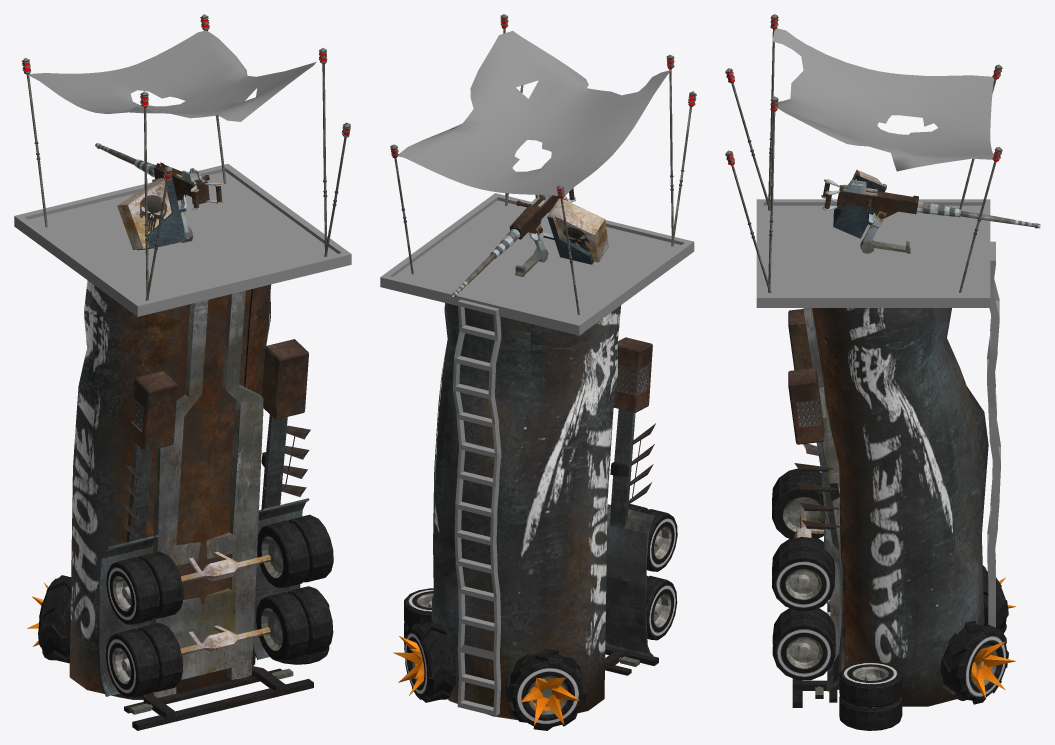
Rendered from full_tower.FBX.
3 renders of one model, left to right at view 1: azimuth 30°, elevation 25°; view 2: azimuth 150°, elevation 25°; view 3: azimuth 270°, elevation 25°, orthographic. The views are drawn at different scales.
Visible parts, largest first — view 1: tower02, tower04, tower03, tower05, tower06, tower16, tower10, tower12, tower15, tower13; view 2: tower02, tower06, tower05, tower00, tower03, tower04, tower10, tower16, tower11, tower01, tower12, tower08; view 3: tower02, tower05, tower06, tower04, tower16, tower11, tower03, tower01, tower00, tower10, tower15, tower12 (+1 smaller).
Part boxes in pixels (x1,y1,x2,y2): tower02: (69,280,271,699); tower04: (106,339,333,730); tower03: (98,290,309,698); tower05: (14,164,351,316); tower06: (27,30,316,121); tower16: (95,143,223,250); tower10: (27,575,71,663); tower12: (140,91,148,300); tower15: (319,48,327,256); tower13: (21,57,47,227); tower02: (431,303,620,720); tower06: (398,31,671,196); tower05: (380,193,694,335); tower00: (453,299,501,716); tower03: (605,409,654,656); tower04: (605,337,677,675); tower10: (505,649,587,730); tower16: (451,188,608,297); tower11: (393,621,456,702); tower01: (404,588,433,644); tower12: (666,54,674,245); tower08: (671,91,696,246); tower02: (812,308,988,706); tower05: (756,199,990,307); tower06: (770,28,993,171); tower04: (772,309,841,707); tower16: (821,170,1040,246); tower11: (940,620,1016,704); tower03: (803,308,845,691); tower01: (839,661,902,730); tower00: (987,241,1000,627); tower10: (982,565,1015,633); tower15: (768,96,778,292); tower12: (768,14,778,210).
Bounding box in the file's own units: 127 × 330 × 149.
